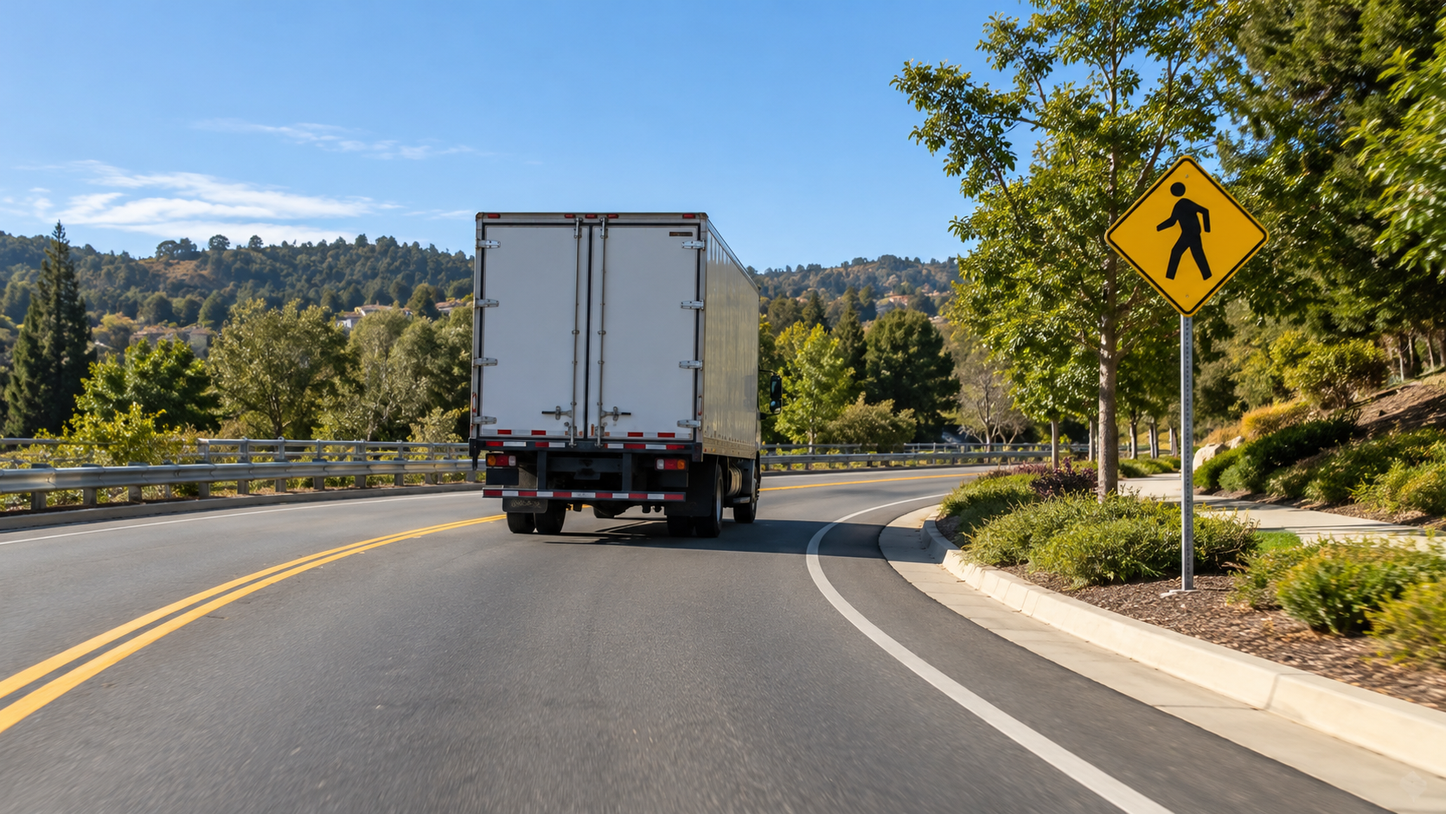crossing_warning_sign: (1103, 142, 1268, 310)
traffic_light: (759, 375, 785, 403)
truck: (473, 210, 764, 528)
